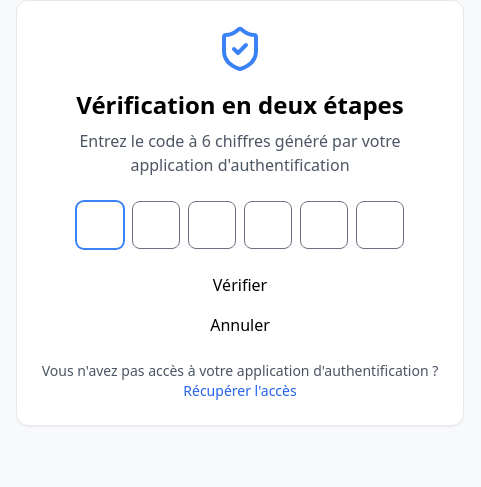
Test: TwoFactorVerification › devrait gérer les erreurs de vérification
This screenshot has width=481, height=487.
Type "1" into the 1st field at (100, 225), box top-left (76, 201), bottom-right (124, 249)
Type "2" into the 2nd field at (156, 225), box top-left (132, 201), bottom-right (180, 249)
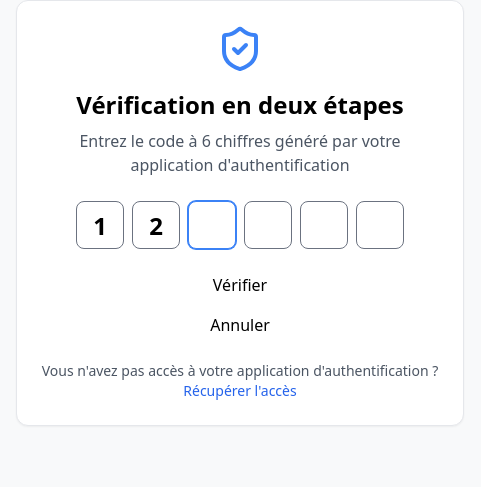
Type "3" into the 3rd field at (212, 225), box top-left (188, 201), bottom-right (236, 249)
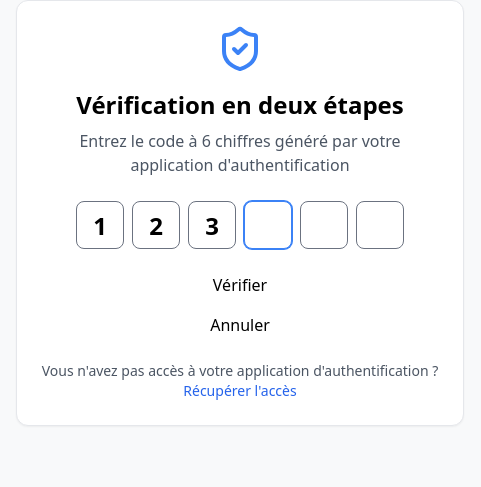
Type "4" into the 4th field at (268, 225), box top-left (244, 201), bottom-right (292, 249)
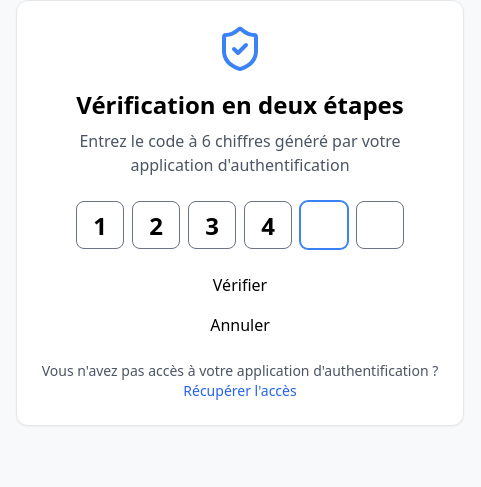
Type "5" into the 5th field at (324, 225), box top-left (300, 201), bottom-right (348, 249)
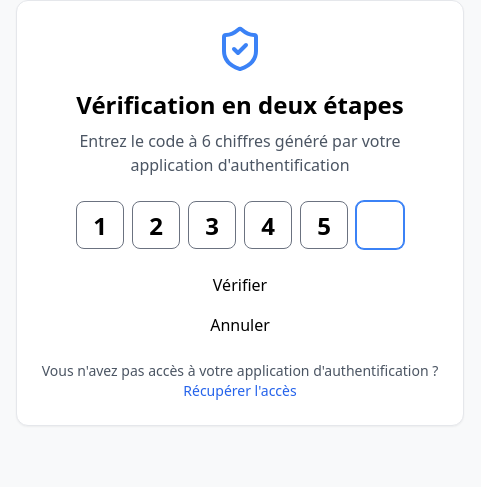
Type "6" into the 6th field at (380, 225), box top-left (356, 201), bottom-right (404, 249)
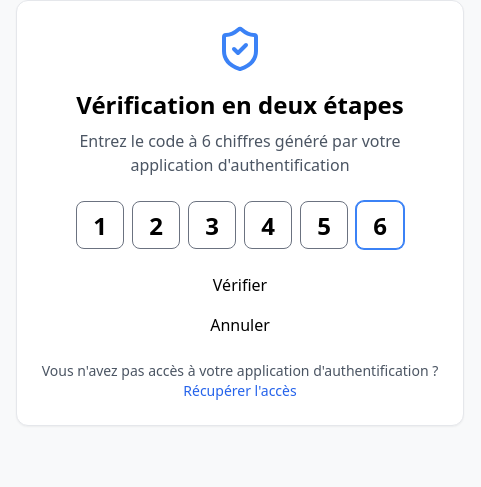
Click the button "Vérifier" at (240, 285), box top-left (41, 273), bottom-right (439, 297)
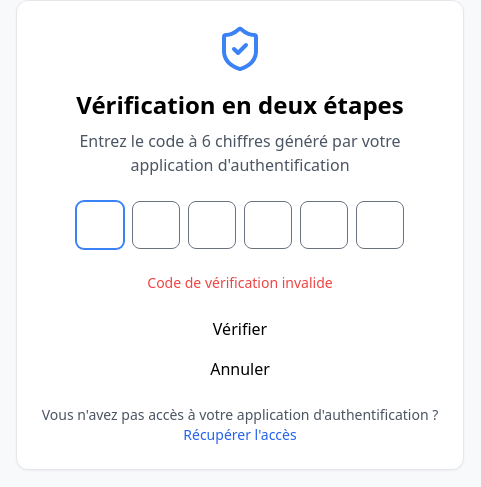
Expected: the text "Code de vérification invalide" is shown, top-left (147, 273), bottom-right (333, 292)
